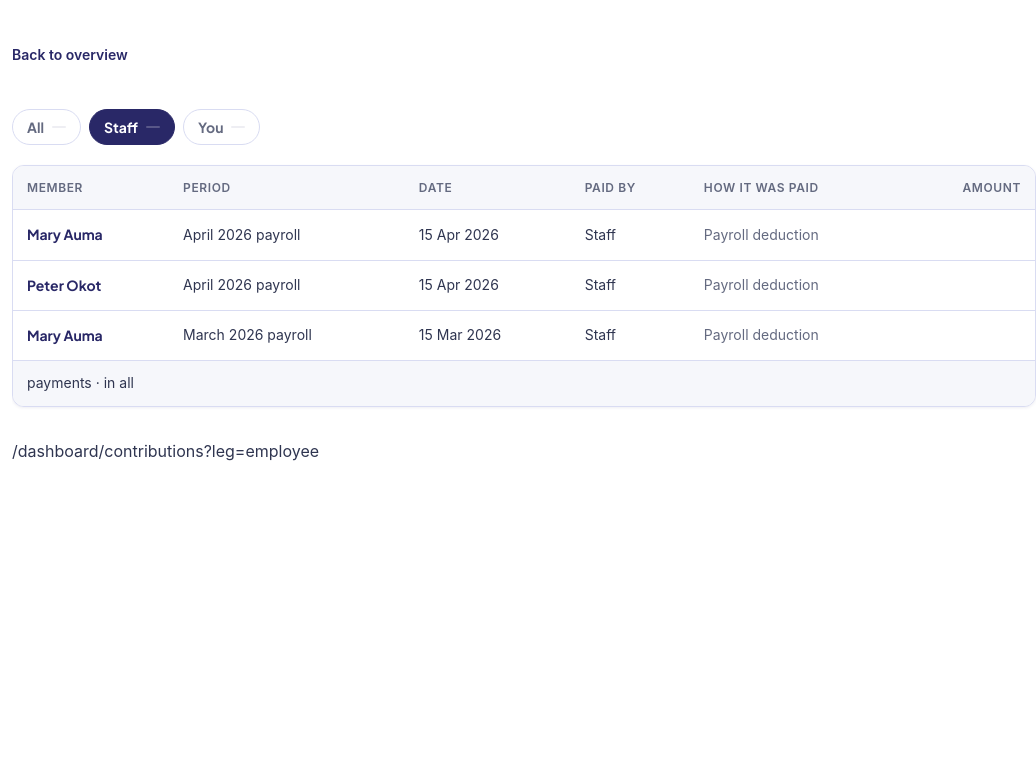
ContributionsDesktop › puts the leg in the URL when a tab is picked, so the view is shareable
This screenshot has width=1036, height=768.
Click the tab "You": (222, 127) [183,109,260,145]
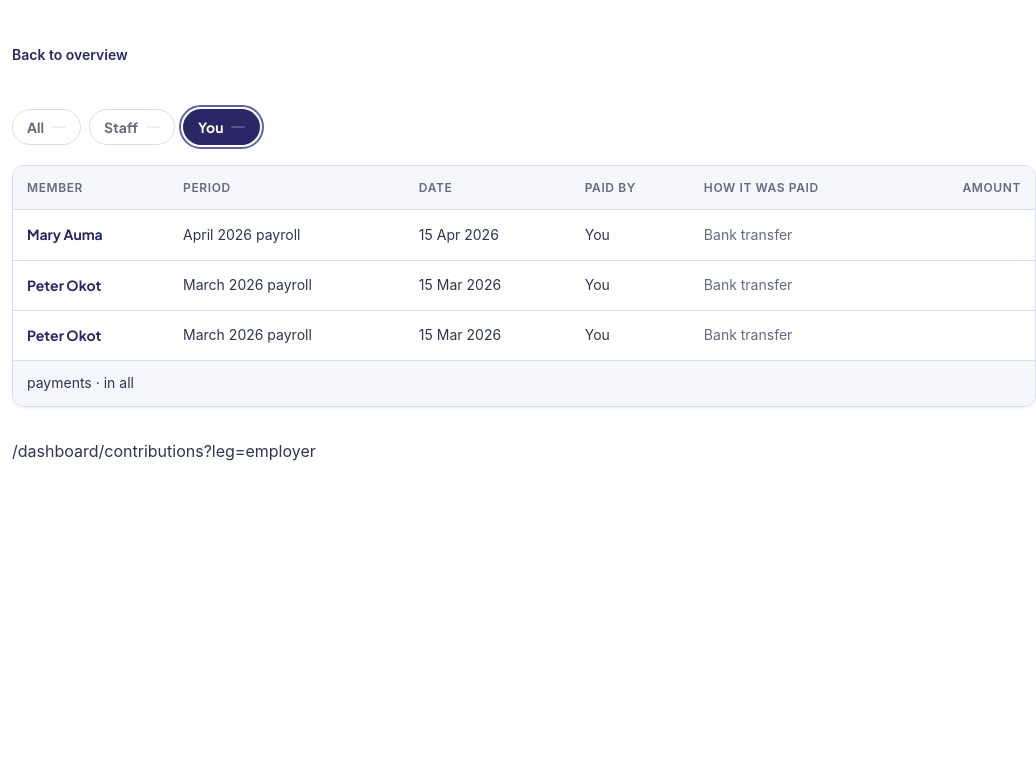
Expected: the text with test id "loc" reads "/dashboard/contributions?leg=employer", [12,441,316,461]
// "All" is the default view, so it clears the param rather than spelling it out.
Click the tab "All": (46, 127) [12,109,81,145]
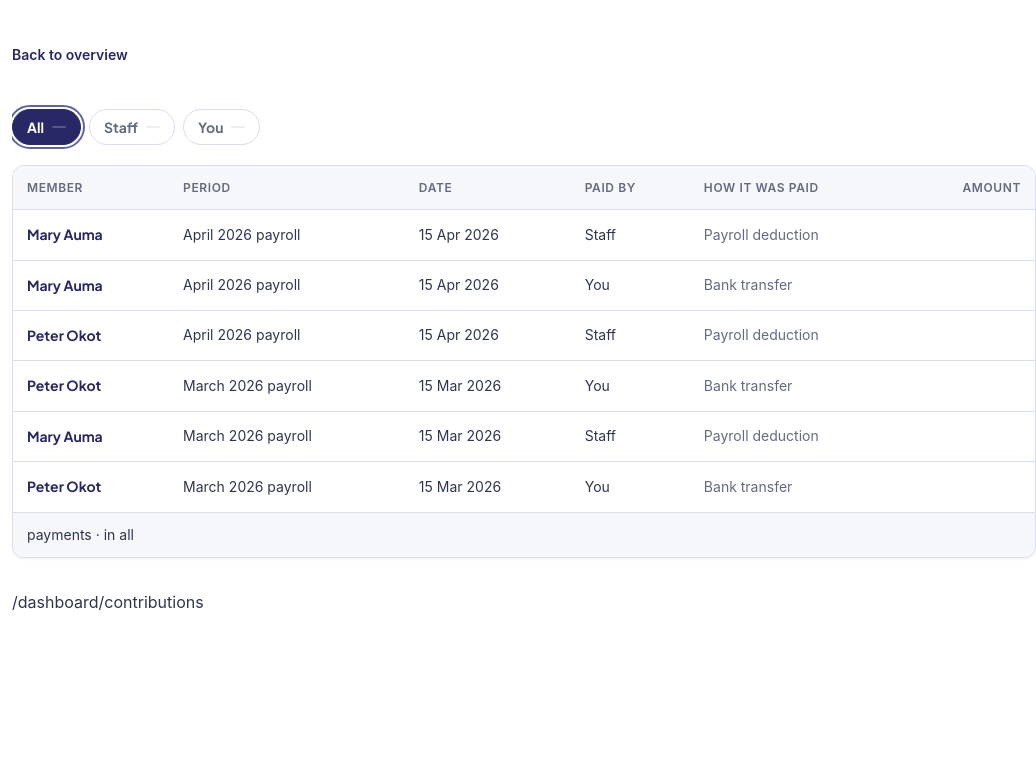
Expected: the text with test id "loc" reads "/dashboard/contributions", [12,592,204,612]
